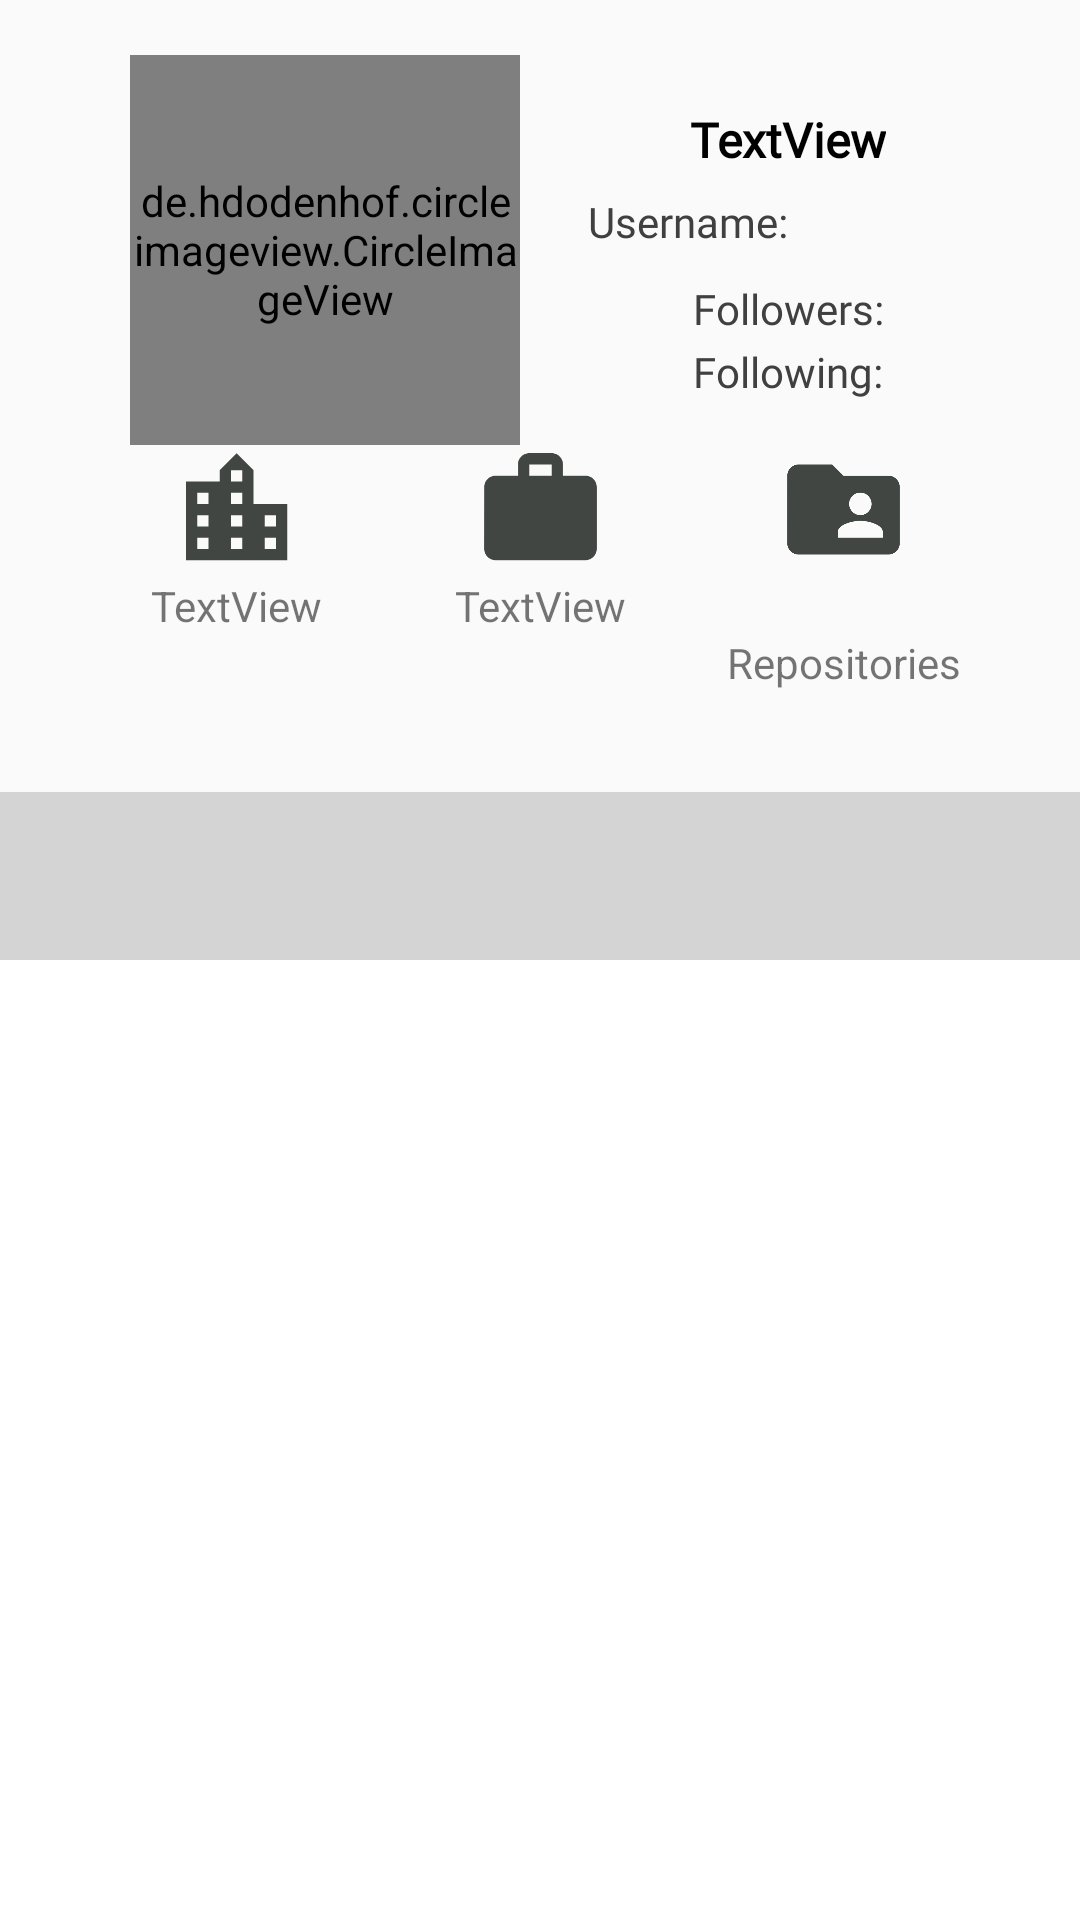

Named icons in this screenshot (1080px×1920px) and their centers, [x,y]:
folder shared: [843,509]
location city: [237,507]
work: [540,507]
